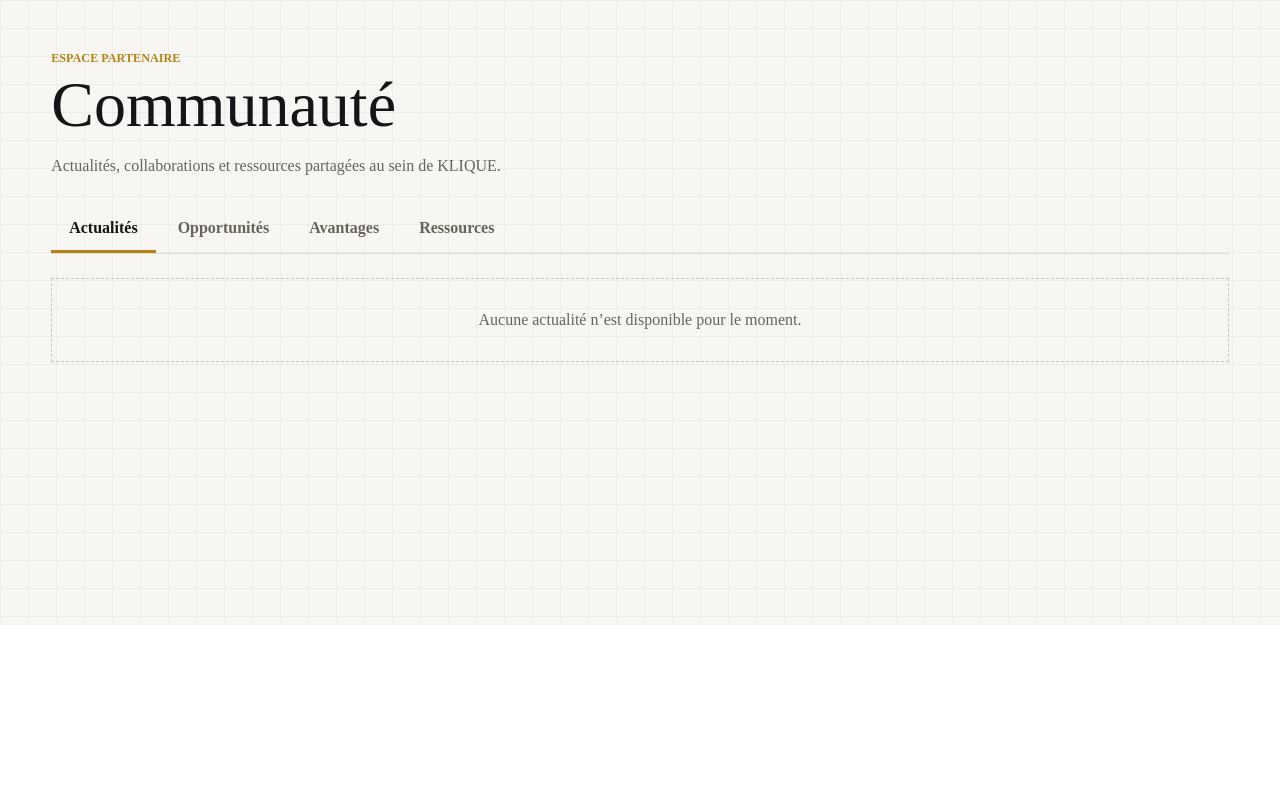
Scenario: PartnerCommunityPage › loads resource content from the dedicated detail GET
Click the tab "Ressources" at (457, 230), box [401,206,512,252]
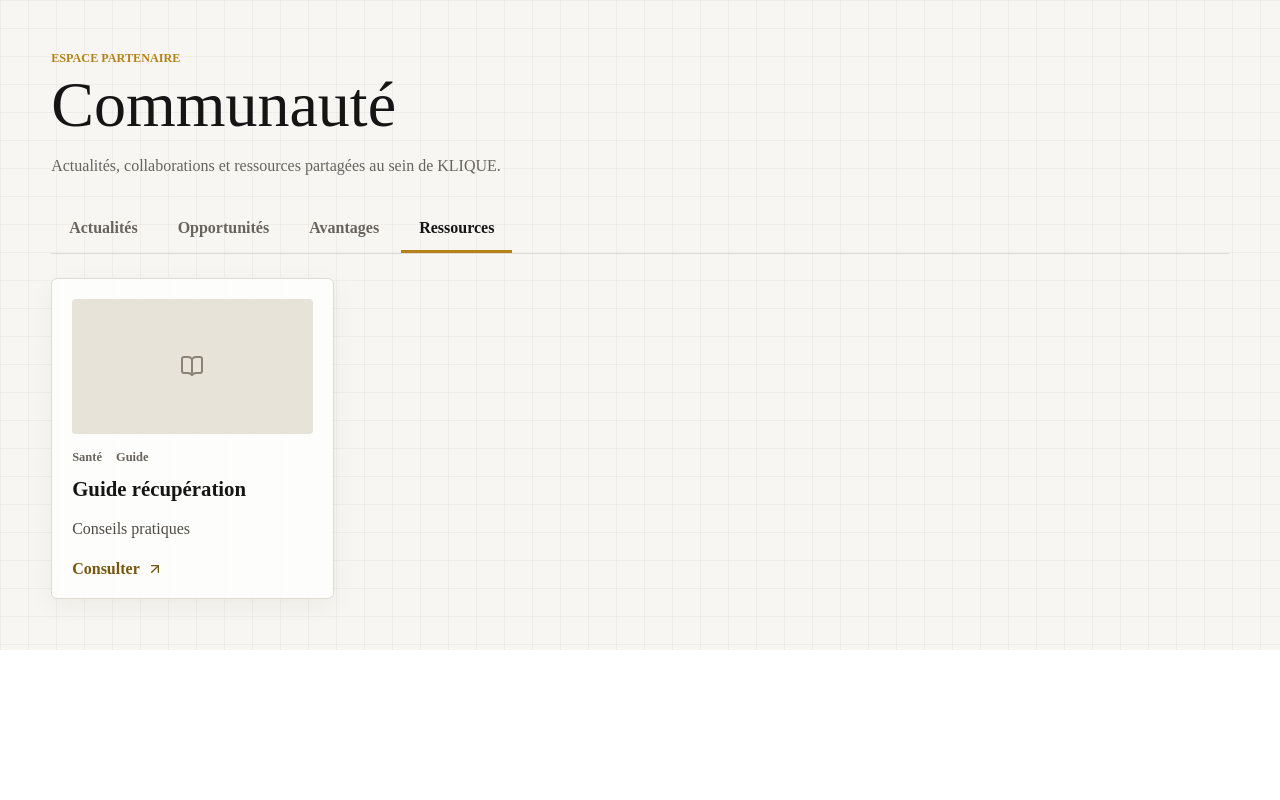
Now the button "Consulter" is shown
Click the button "Consulter" at (118, 560), box [72,542,163,578]
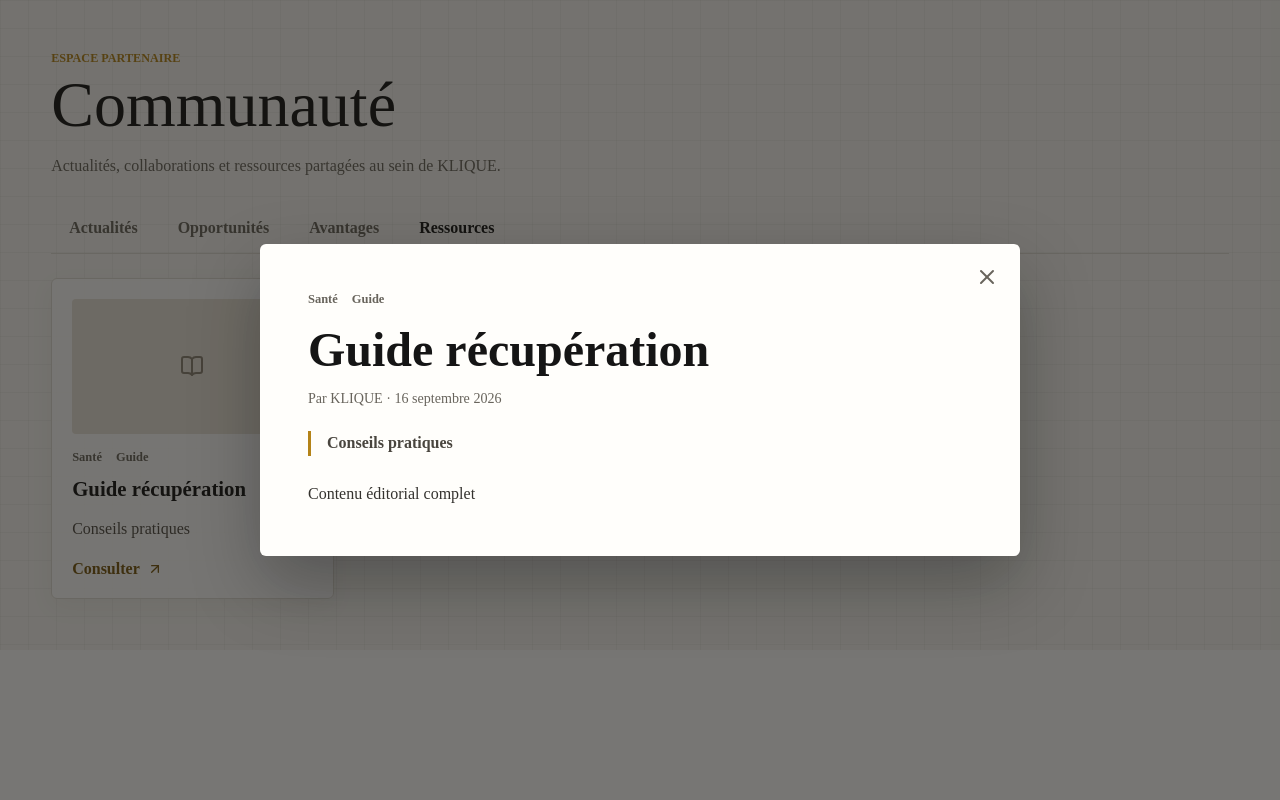
Now the dialog shows "Contenu éditorial complet", box [308,485,475,502]
